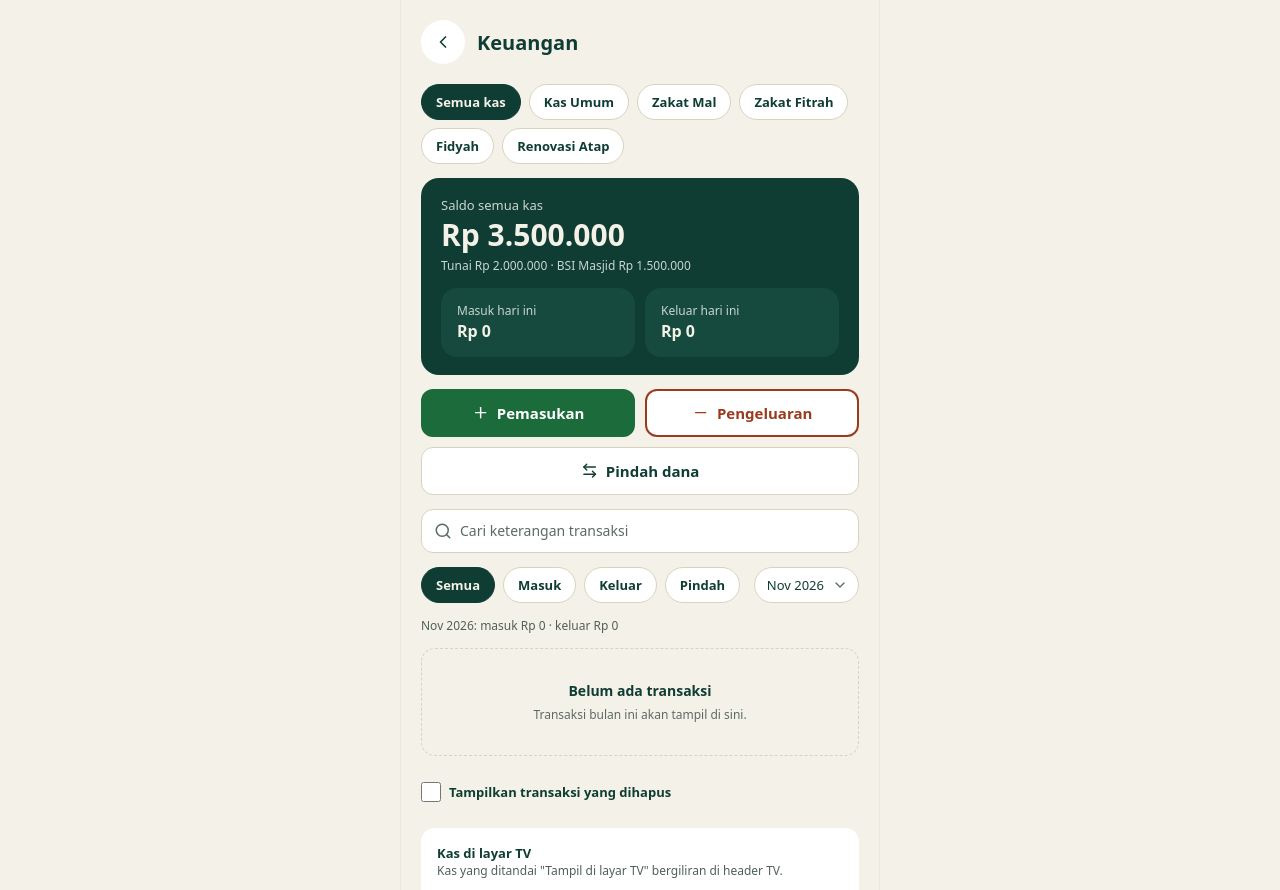
Scenario: FinancePage › shows why an expense above the kas balance is refused
Click the button "Pengeluaran" at point(752, 413), box [645,389,859,437]
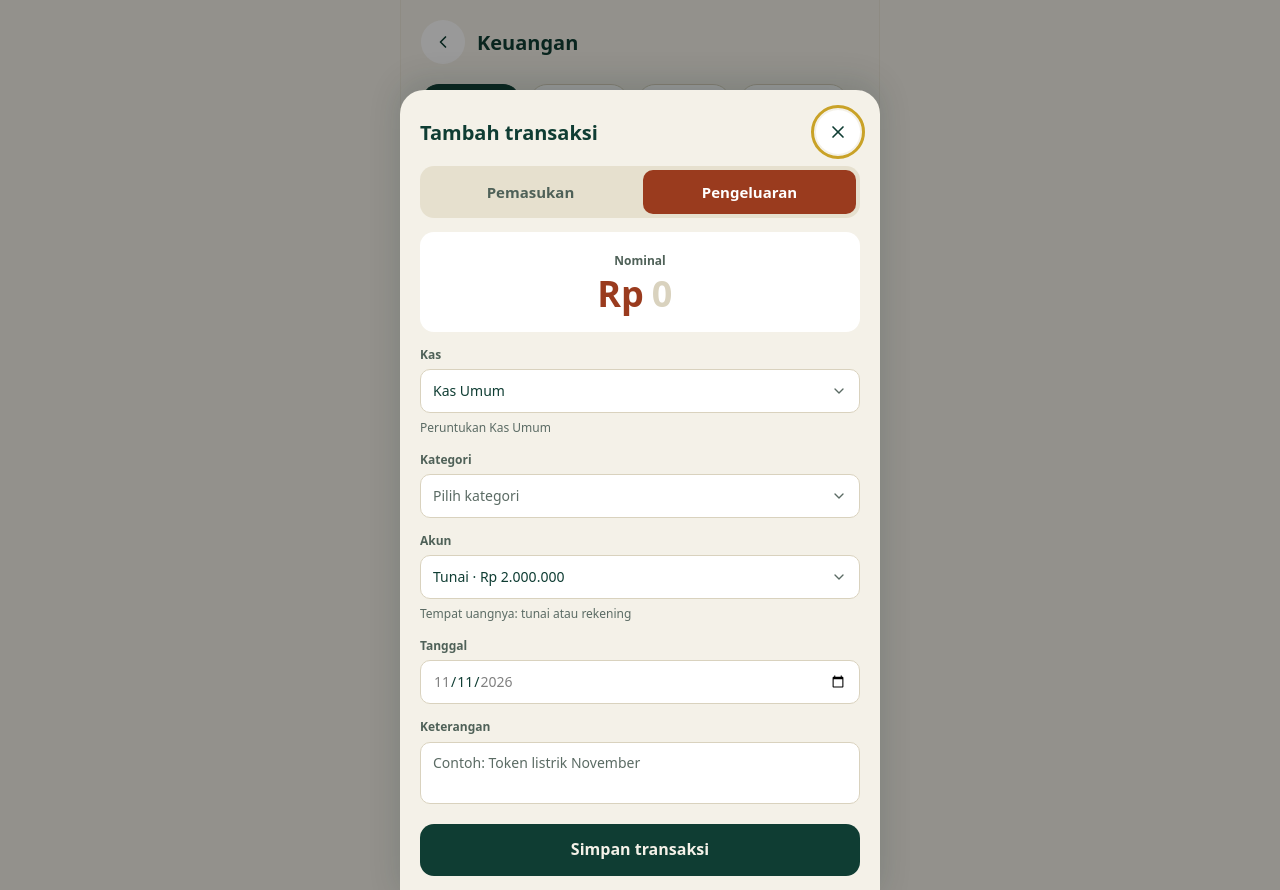
Type "5000000" into the field labelled "Nominal" at point(667, 294), box [652,274,683,314]
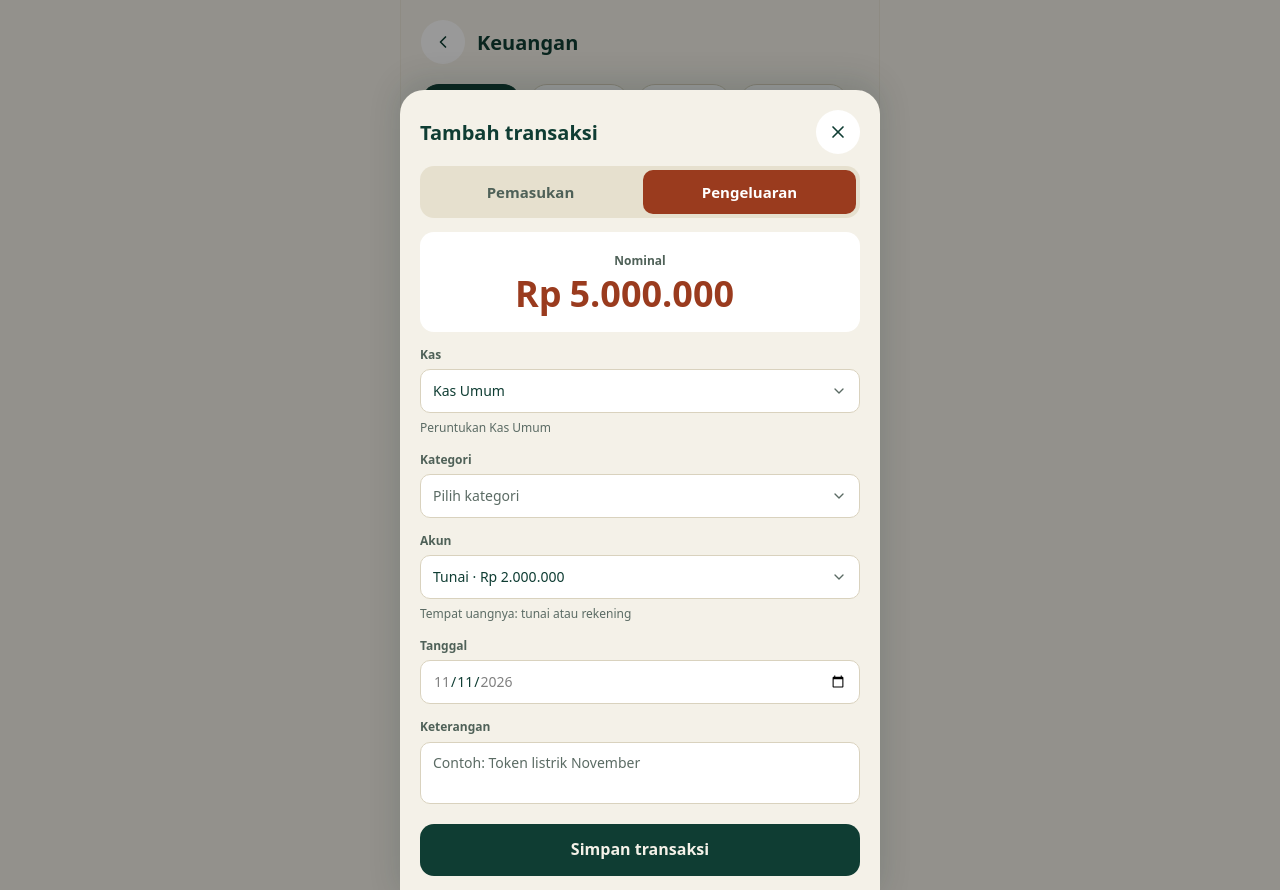
Click the dropdown labelled "kategori" at point(476, 495), box [420,474,860,518]
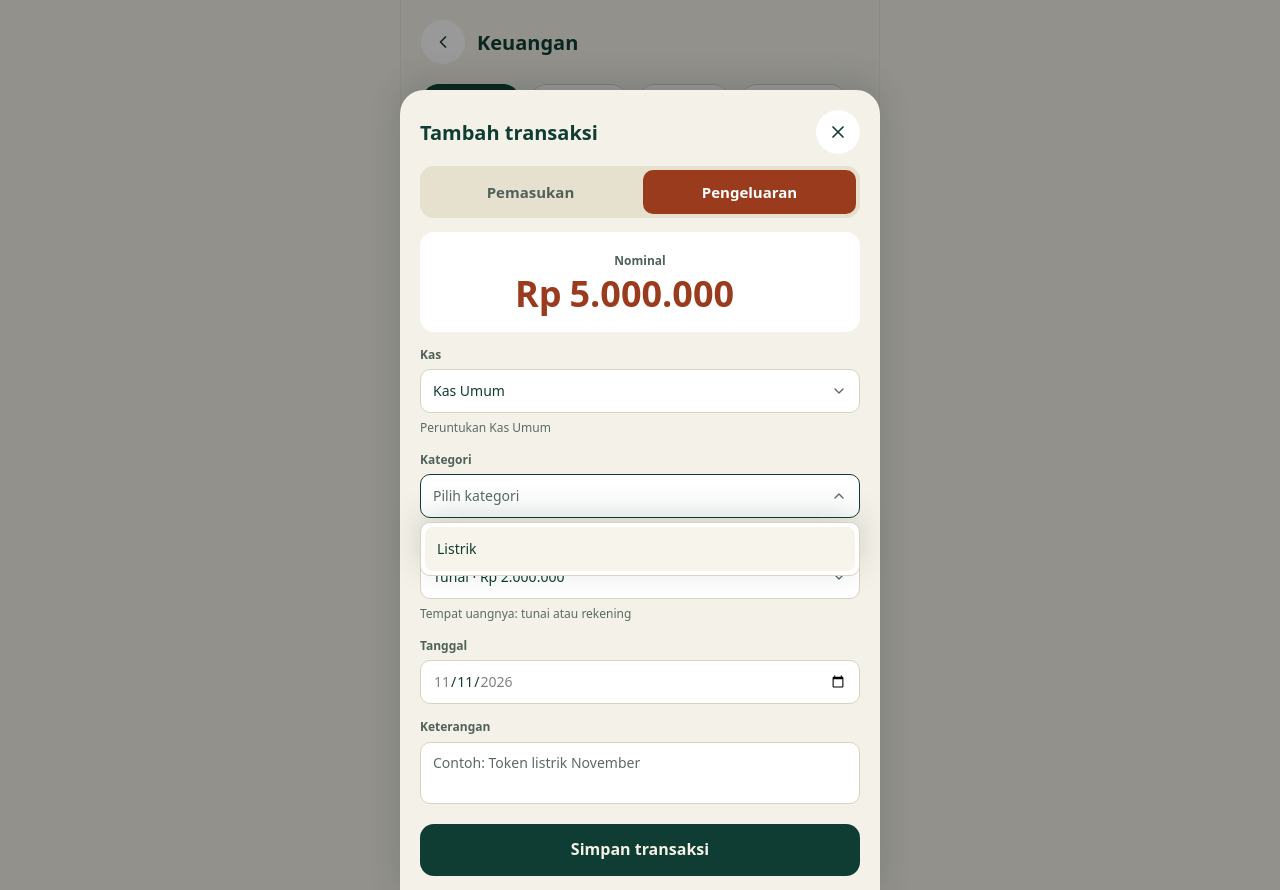
Click the option "Listrik" at point(457, 548), box [425,527,855,571]
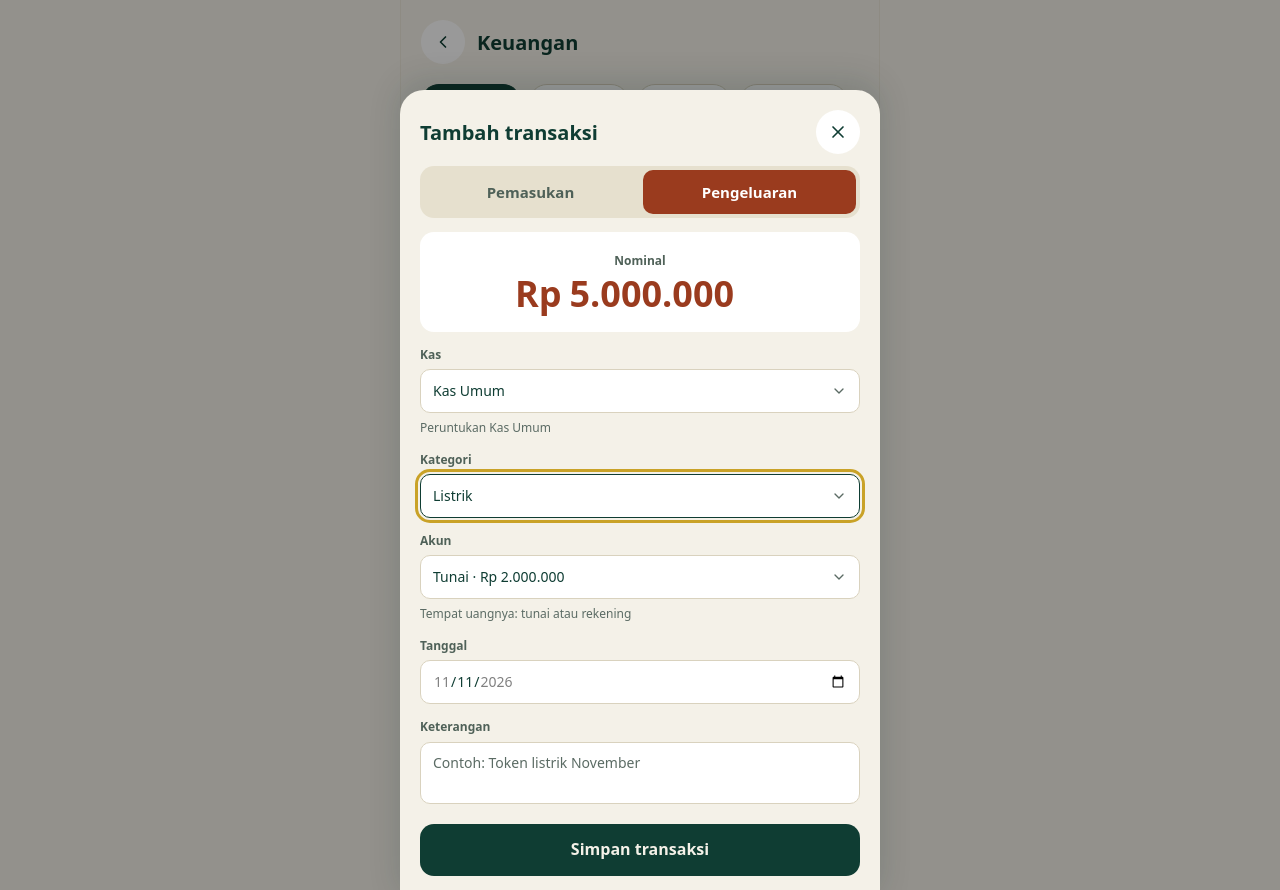
Click the button "Simpan transaksi" at point(640, 850), box [420,824,860,876]
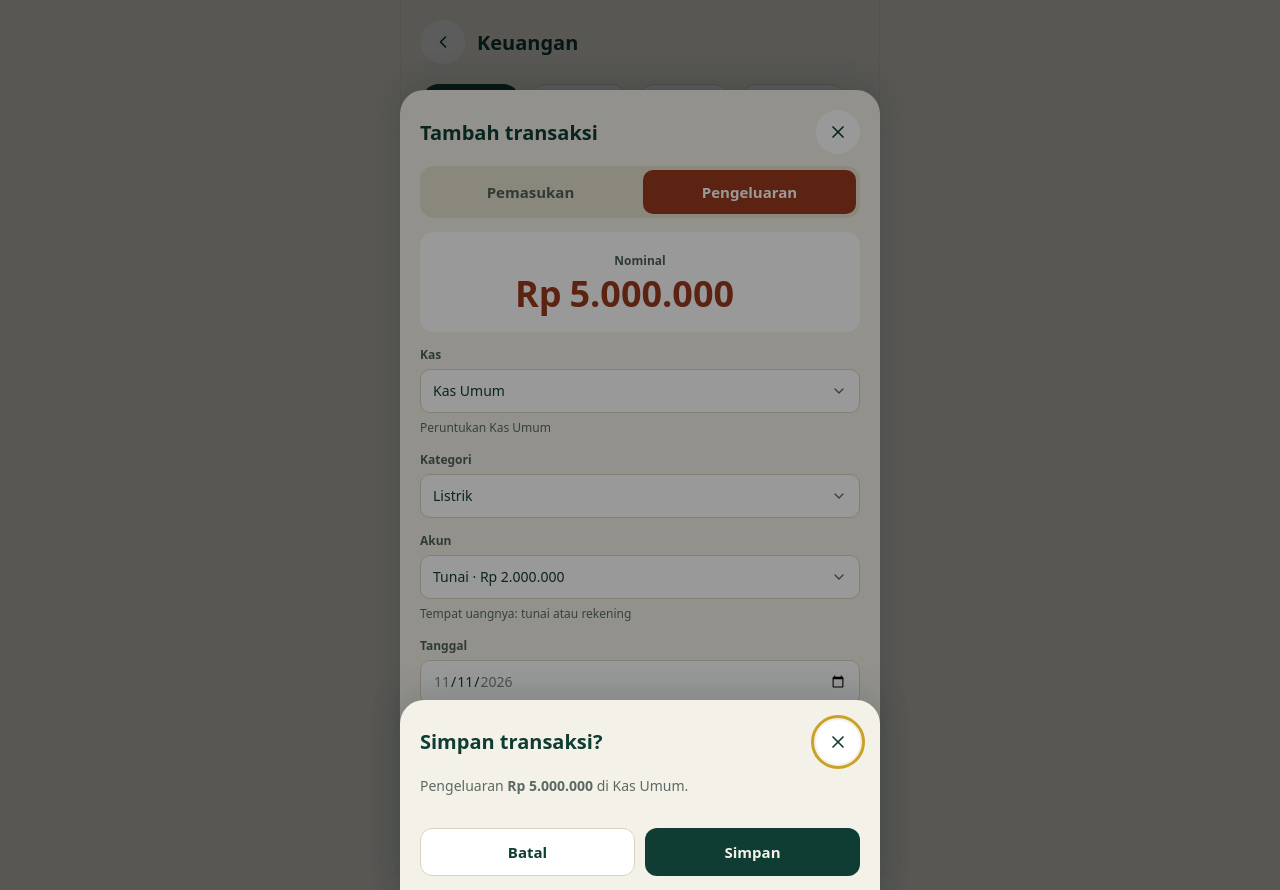
Click the button "Simpan" at point(752, 852), box [645,828,860,876]
(page scrolled)
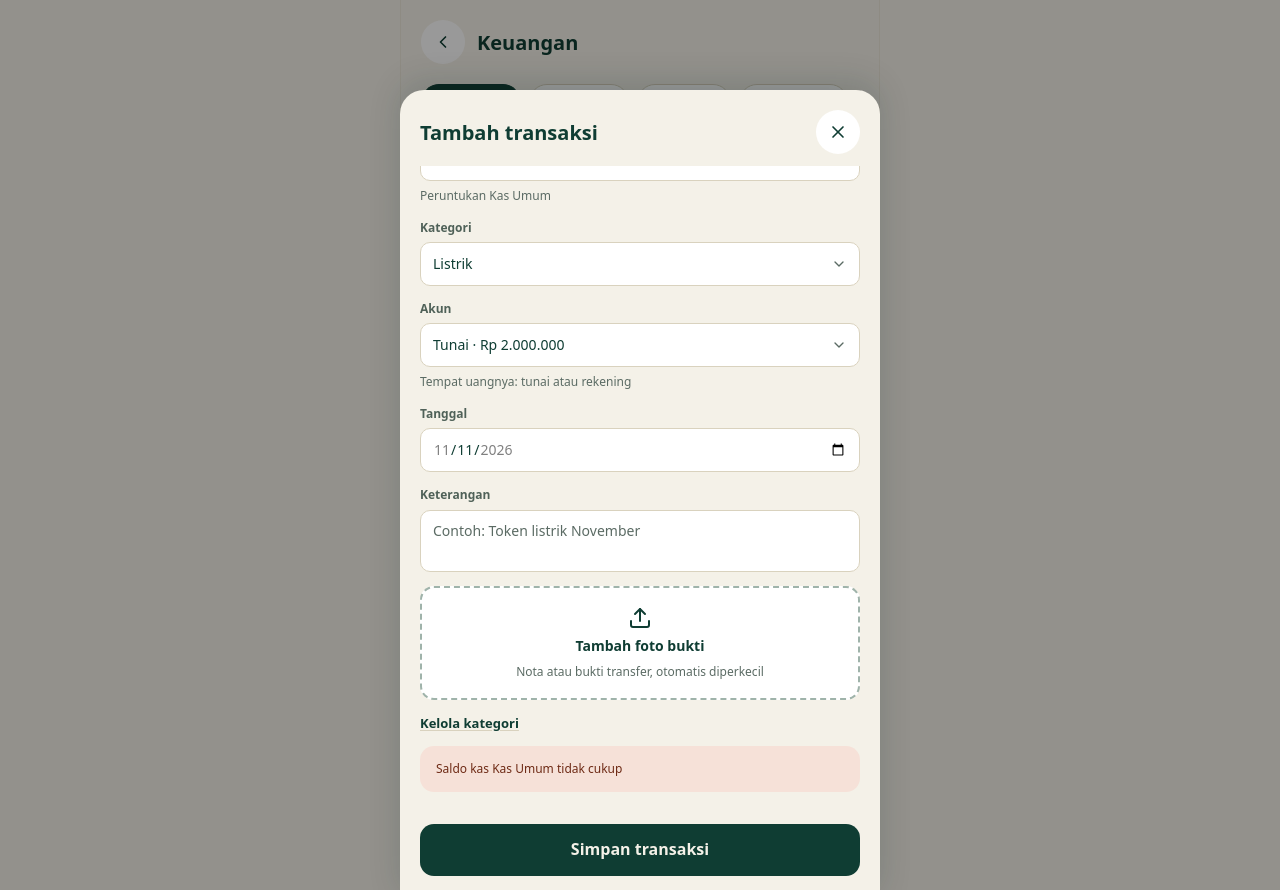
Expected: the text "Saldo kas Kas Umum tidak cukup" is shown, [436,760,622,777]
